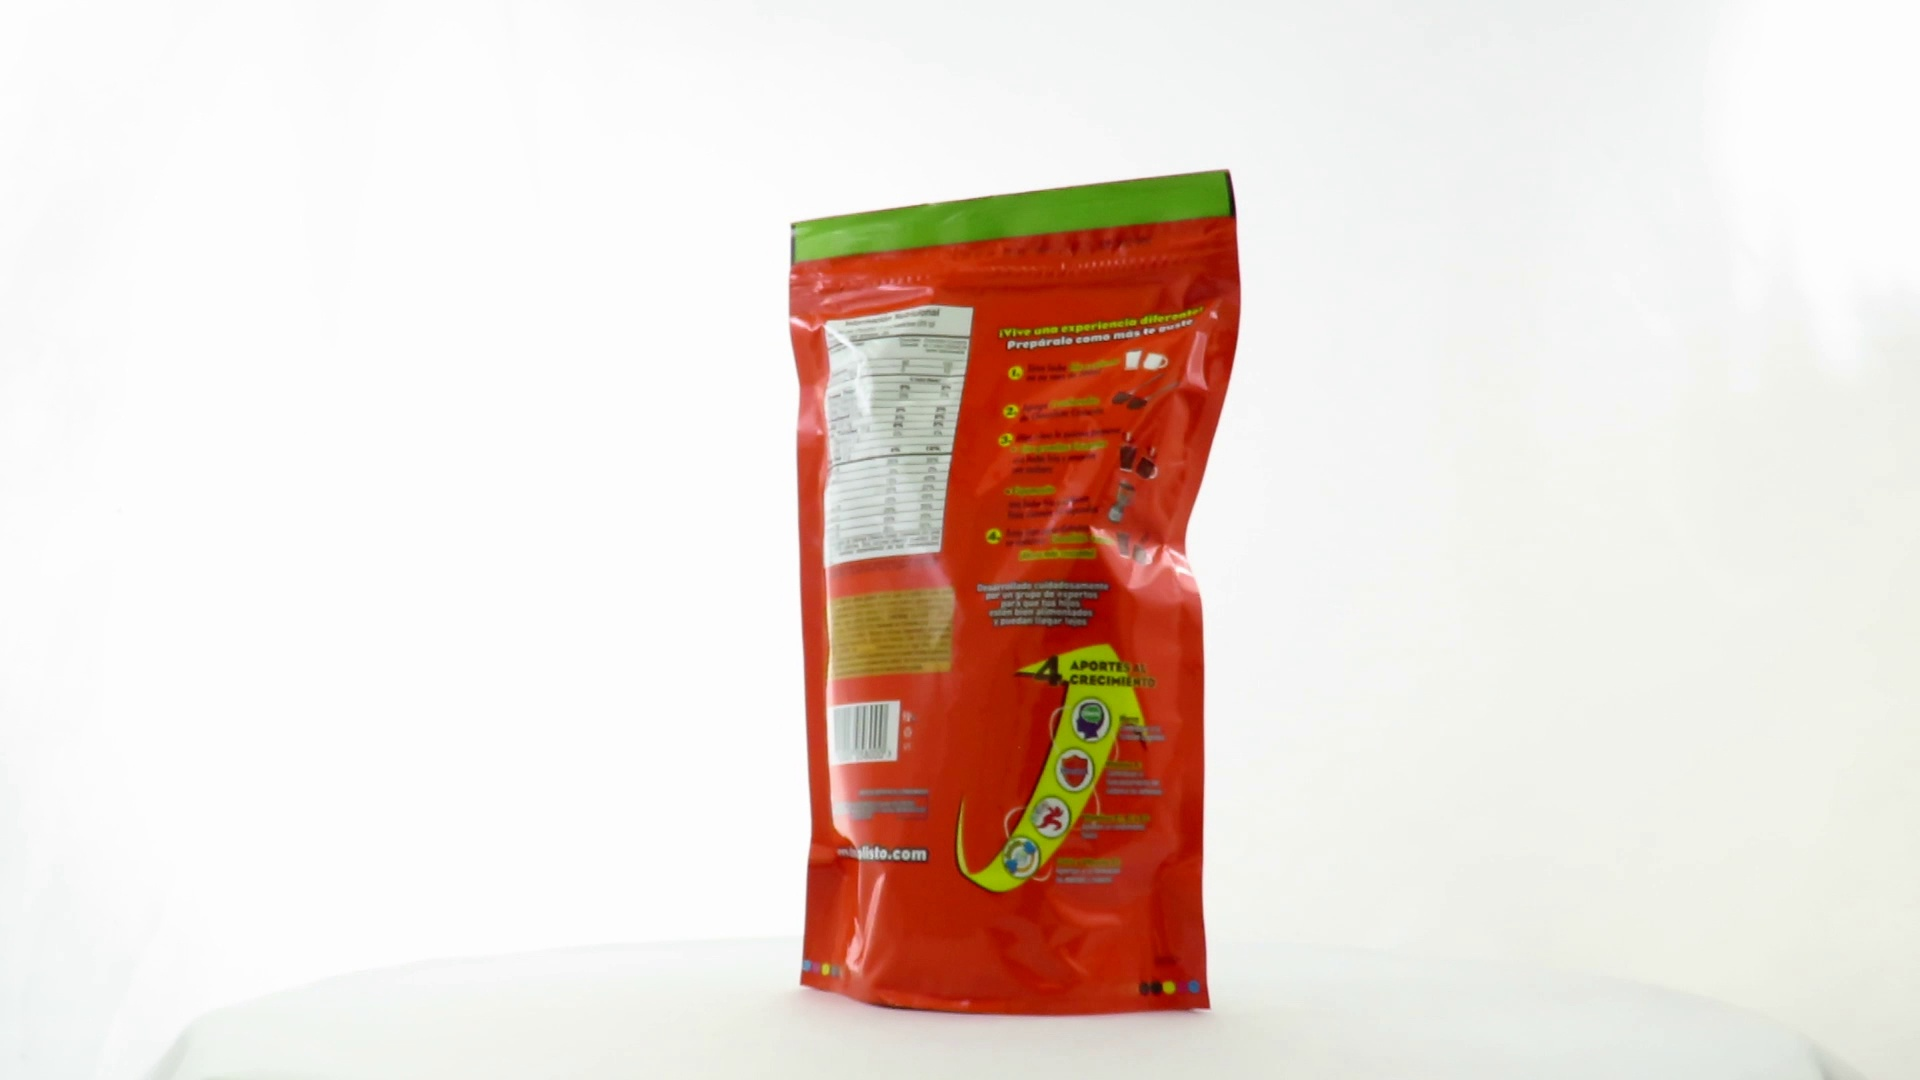COL0170102DYP50000: (785, 164, 1247, 1023)
